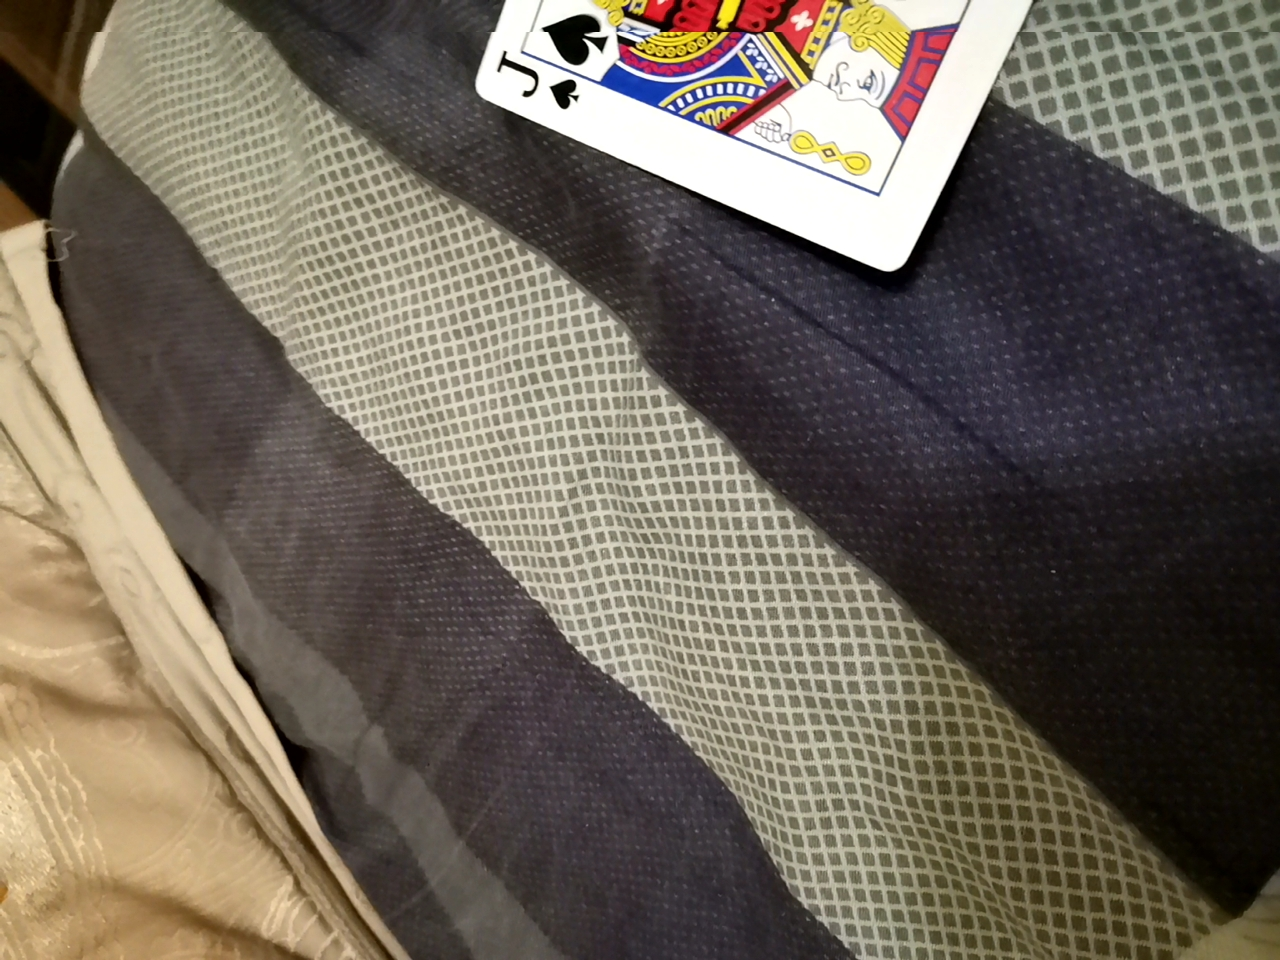ht j: (441, 0, 1112, 275)
